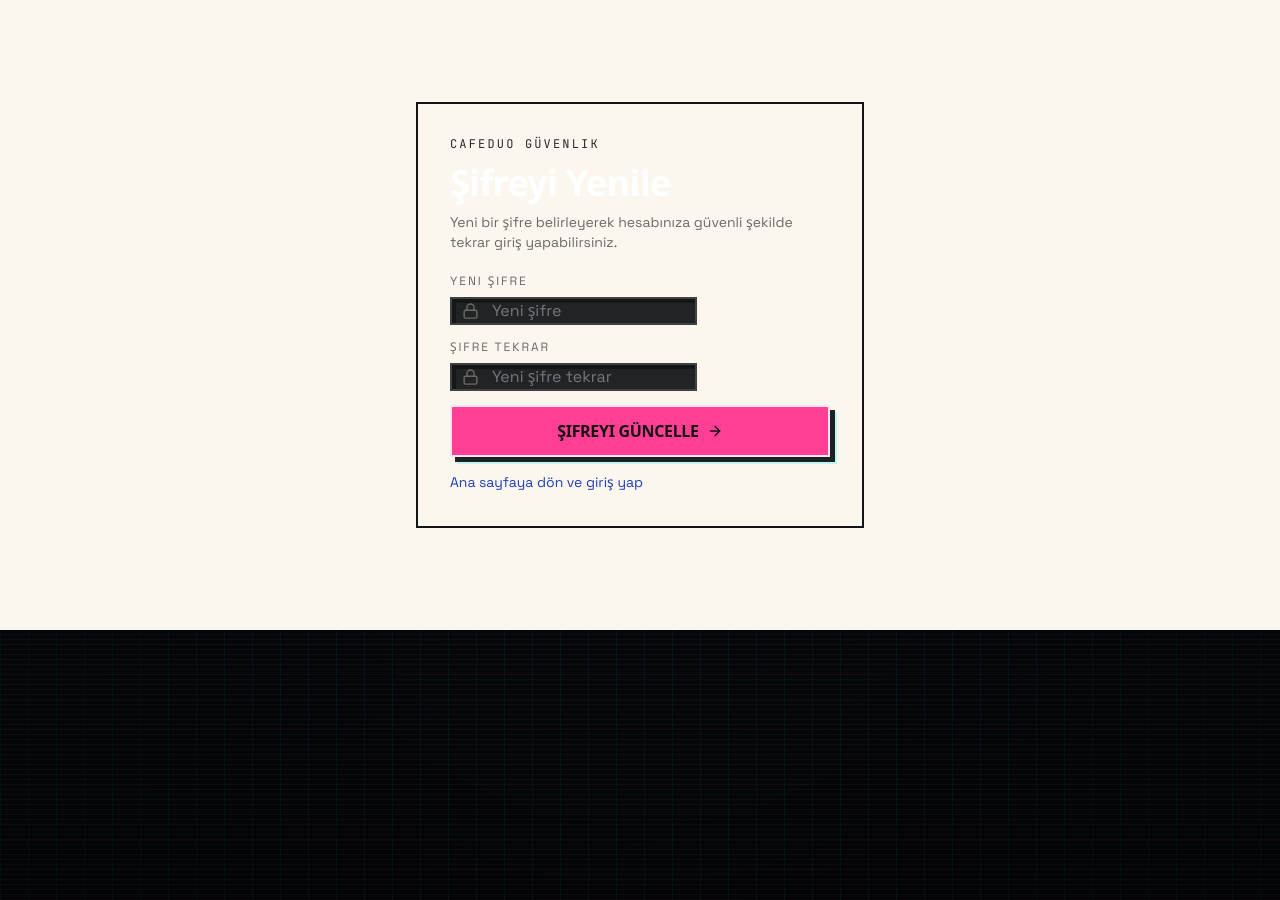
ResetPasswordPage › shows validation error when token is missing
In the password field with placeholder "Yeni Şifre": x=574, y=311 top-left (450, 297), bottom-right (697, 325), type "new-pass-123"
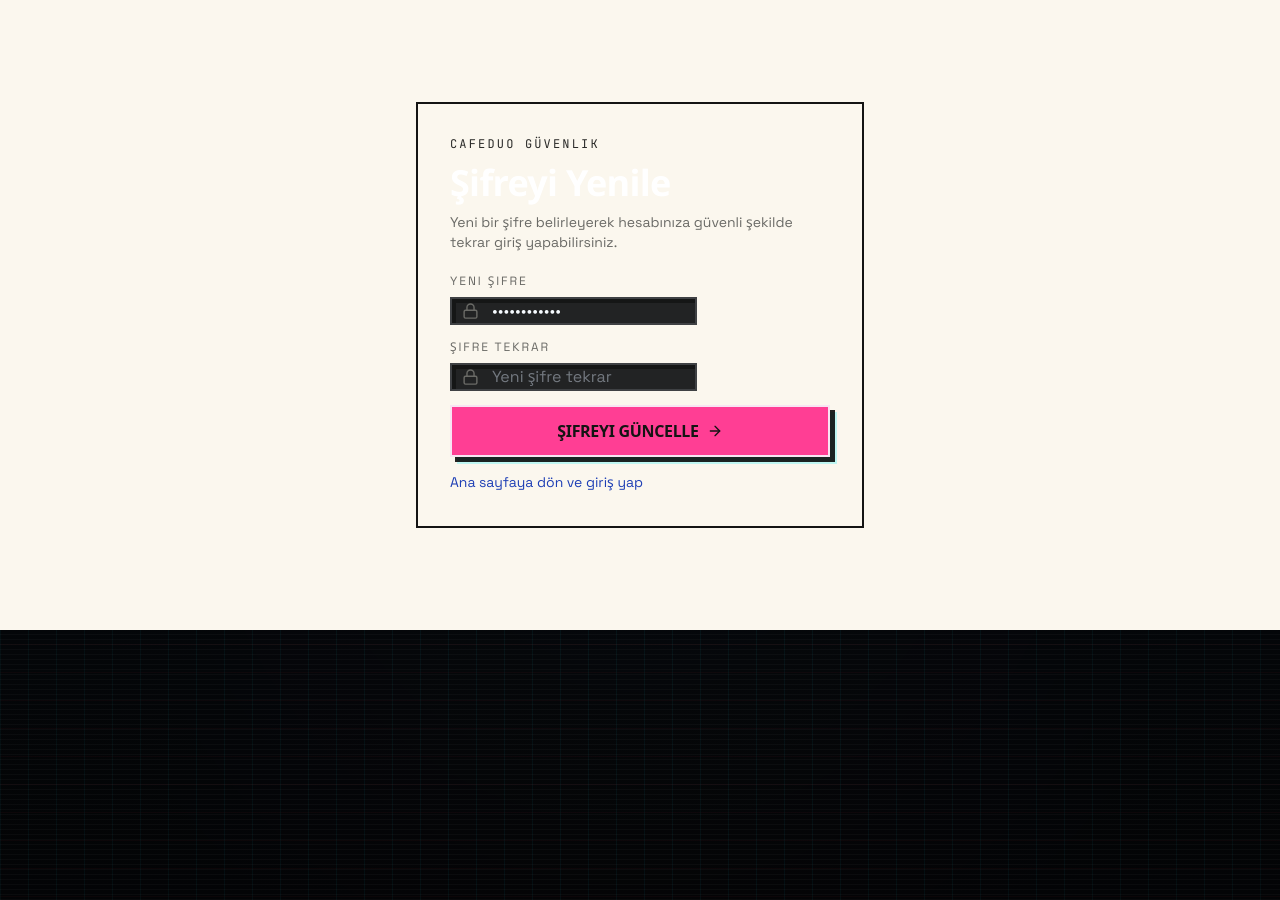
In the password field with placeholder "Yeni şifre tekrar": x=574, y=377 top-left (450, 363), bottom-right (697, 391), type "new-pass-123"
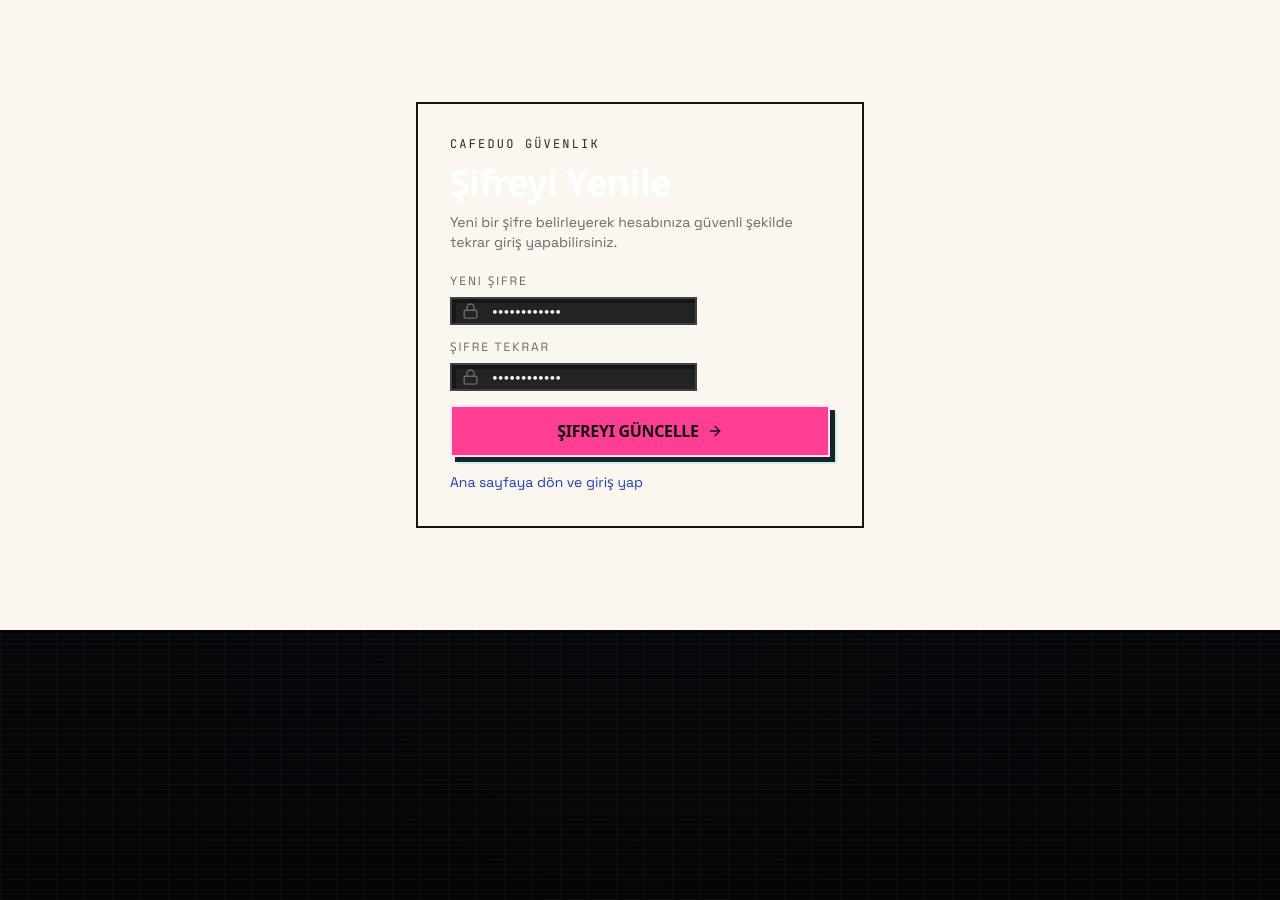
Click the button "Şifreyi Güncelle": x=640, y=431 top-left (450, 405), bottom-right (830, 457)
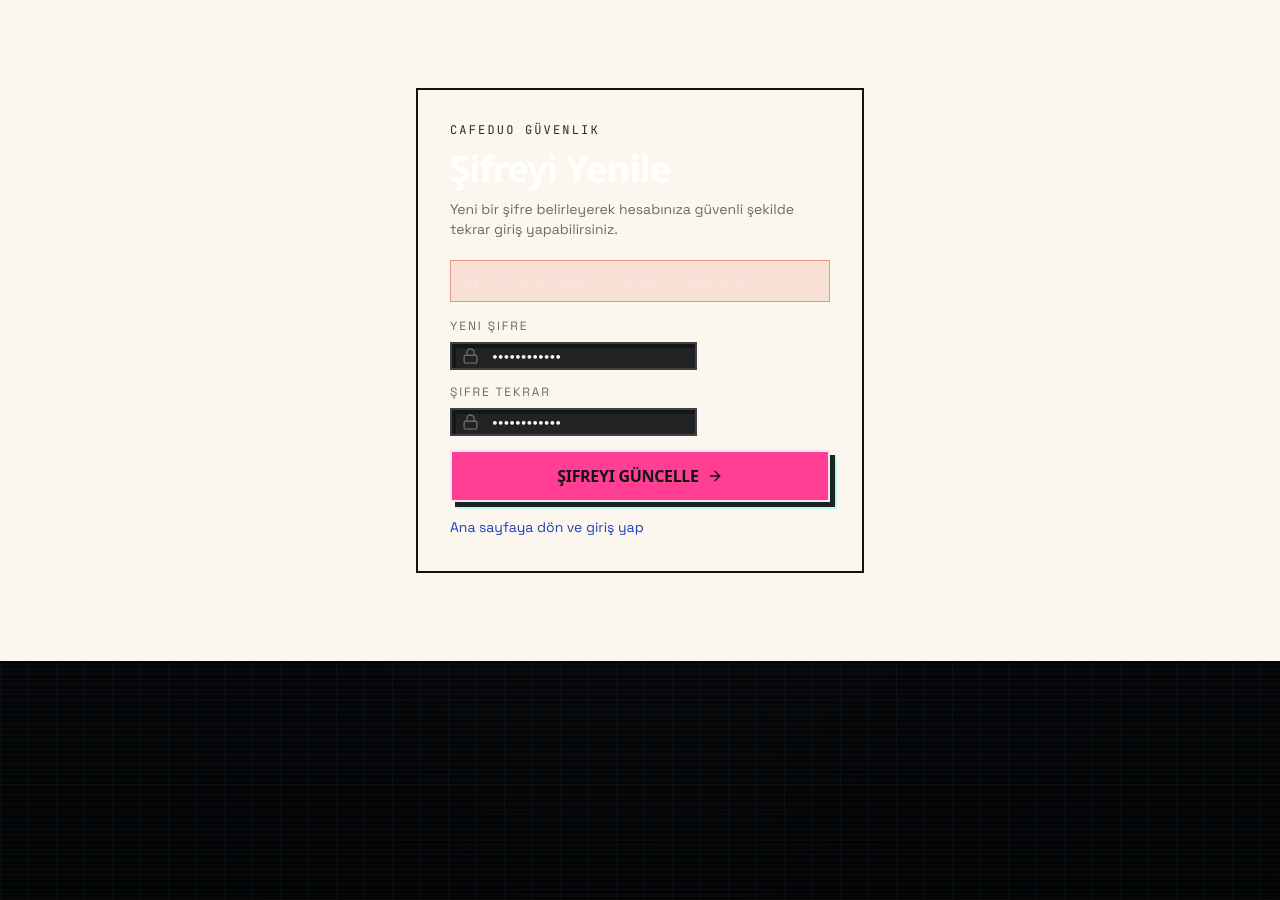
Check: the text "Sıfırlama bağlantısı geçersiz veya eksik." is shown, box top-left (450, 260), bottom-right (830, 302)
